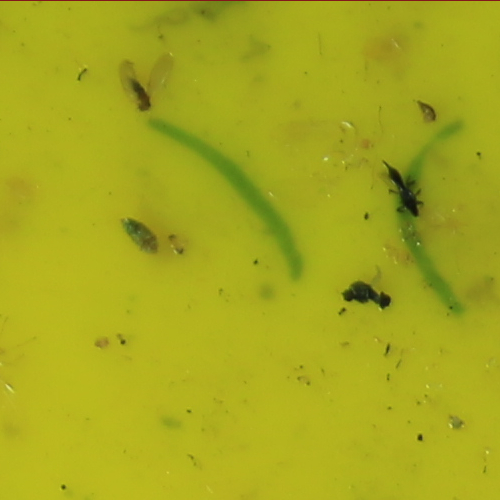psylla: (117, 211, 159, 255), (123, 71, 157, 114)
